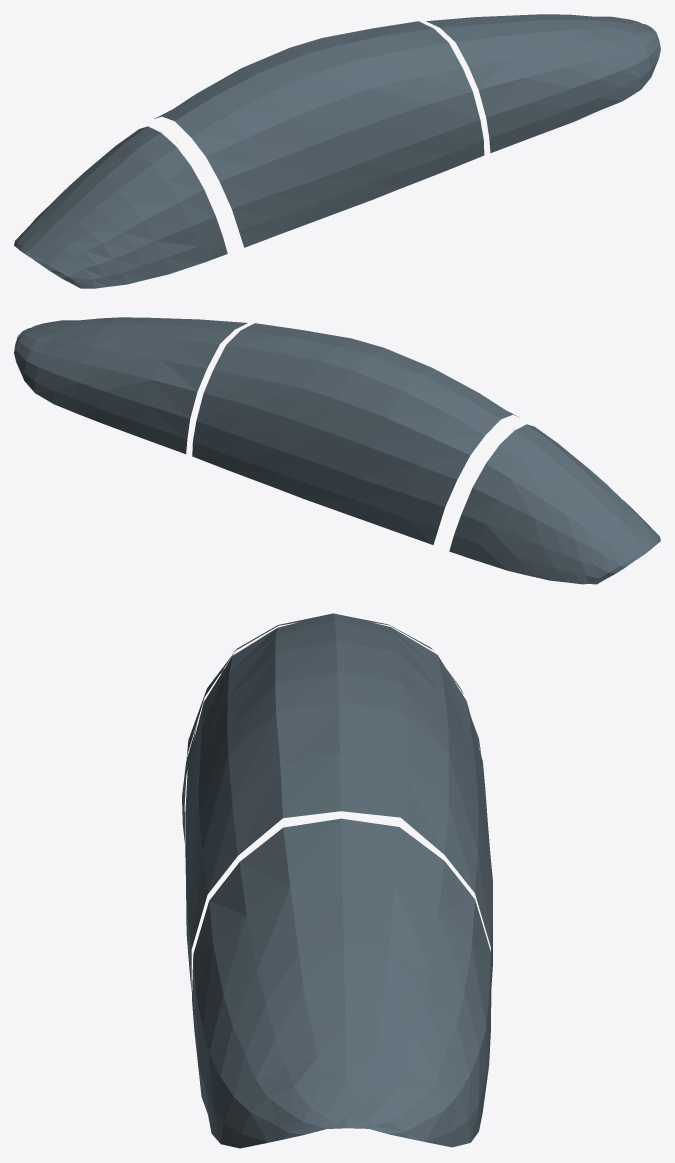
File: f15c.glass.glb
The picture shows the model from 3 angles, top to bottom: view 1: azimuth 30°, elevation 25°; view 2: azimuth 150°, elevation 25°; view 3: azimuth 270°, elevation 25°; orthographic projection. The views are drawn at different scales.
Parts seen in each view (by area): view 1: glass; view 2: glass; view 3: glass.
Boxes of the visible parts, x1,y1,x2,y2 form: glass: [14, 14, 660, 288]; glass: [14, 317, 660, 584]; glass: [182, 613, 492, 1148].
Size of the model in its own units: 4.21 by 0.9656 by 0.9088.
